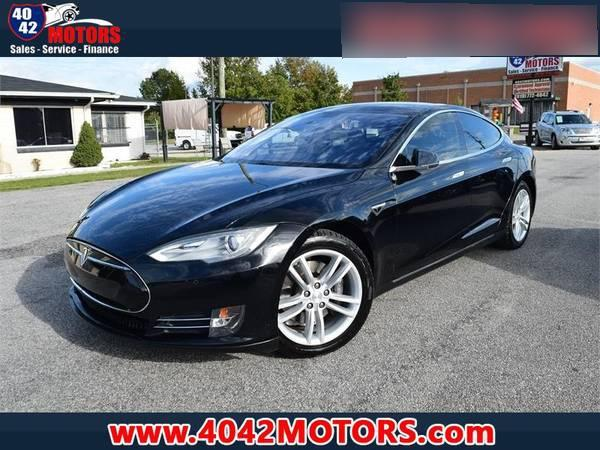Front_Bumper: (64, 224, 307, 354)
Front_Fender: (227, 160, 392, 299)
Front_Left_Door: (388, 157, 469, 286)
Front_Left_Window: (391, 109, 466, 180)
Front_Windshield: (221, 105, 423, 171)
Grille: (60, 240, 148, 318)
Hood: (59, 158, 359, 260)
Left_Headlight: (136, 225, 268, 269)
Rear_Fender: (515, 144, 535, 179)
Rear_Left_Door: (465, 137, 518, 251)
Rear_Left_Window: (458, 111, 506, 157)
Wheel: (272, 230, 372, 354), (506, 184, 532, 245)
